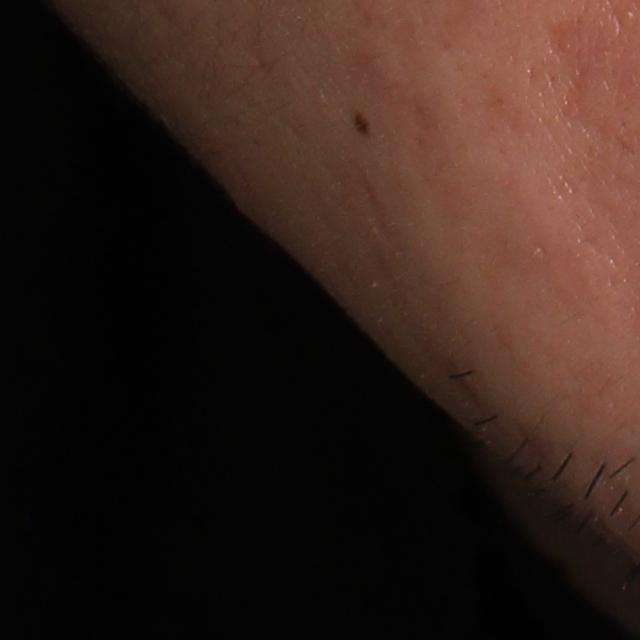nevus: (351, 109, 374, 139)
